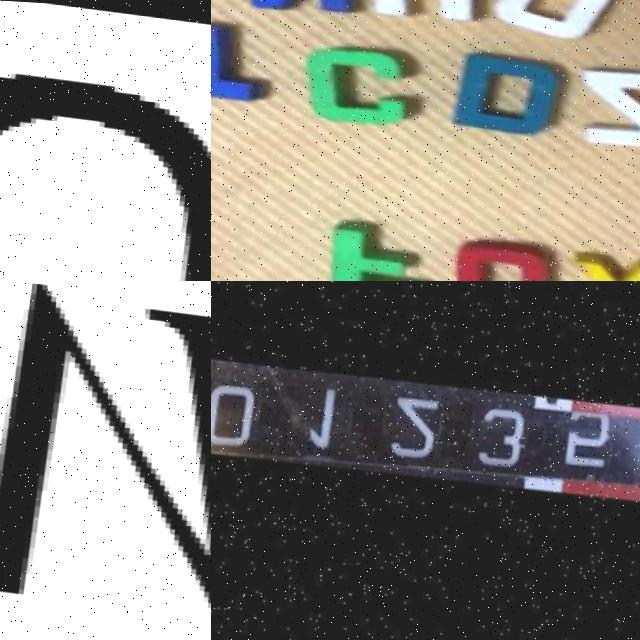0: (211, 377, 261, 451)
1: (302, 378, 347, 456)
2: (387, 388, 445, 461)
3: (474, 399, 532, 472)
5: (563, 404, 620, 469)
C: (304, 39, 425, 128)
D: (458, 46, 567, 132)
F: (328, 223, 435, 281)
H: (357, 0, 493, 22)
M: (0, 281, 211, 628)
O: (460, 235, 559, 281)
Q: (498, 0, 627, 37)
T: (211, 19, 265, 101)
U: (0, 43, 211, 281)
X: (578, 245, 640, 281)
Z: (576, 50, 640, 148)
